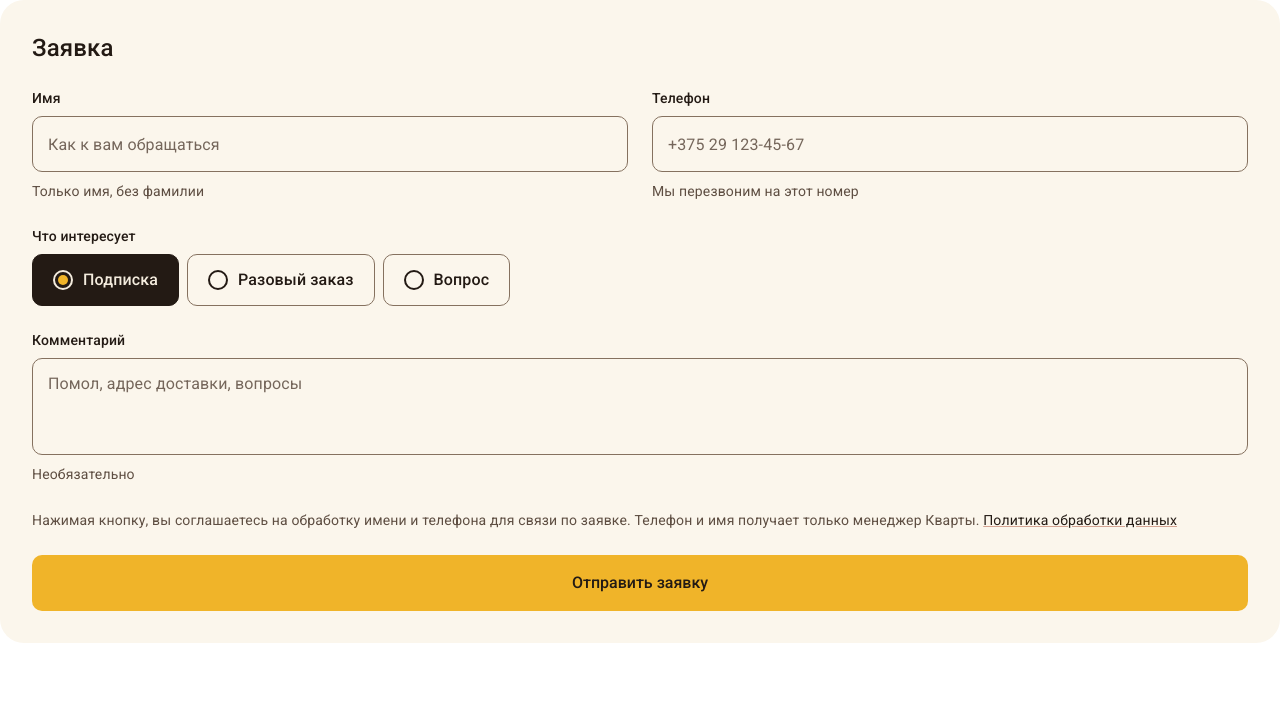
LeadForm sending › offers no Telegram write-us link in the failure view (a channel cannot receive messages)
Step 1. Type "Анна" into the field labelled "Имя" → (330, 144), box [32,116,628,172]
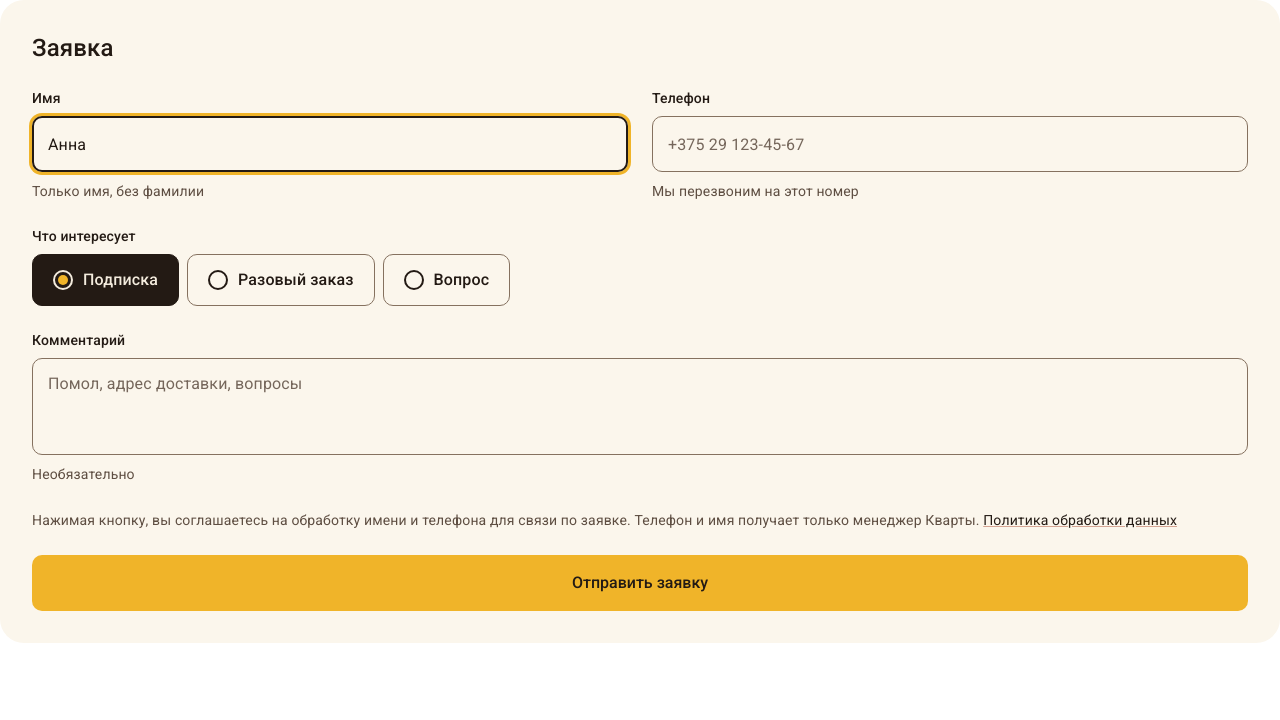
Step 2. Type "80291234567" into the field labelled "Телефон" → (950, 144), box [652,116,1248,172]
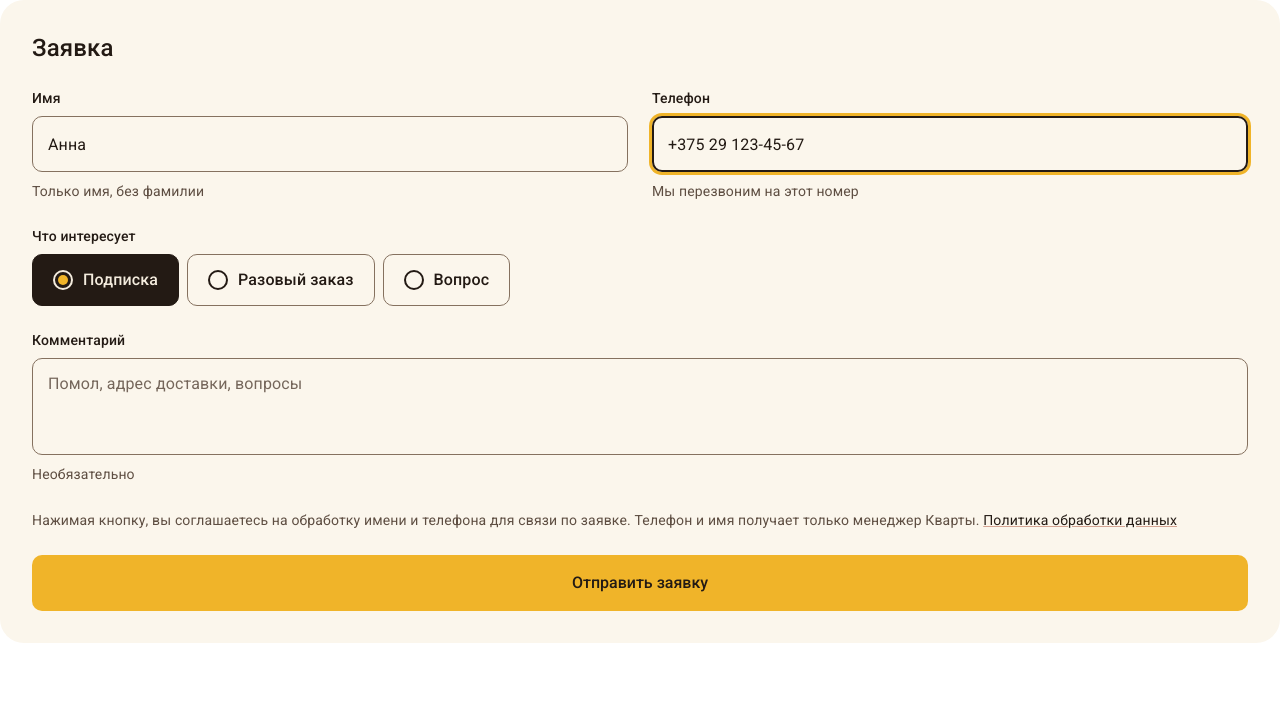
Step 3. Click the button "Отправить заявку" → (640, 583), box [32,555,1248,611]
(page scrolled)
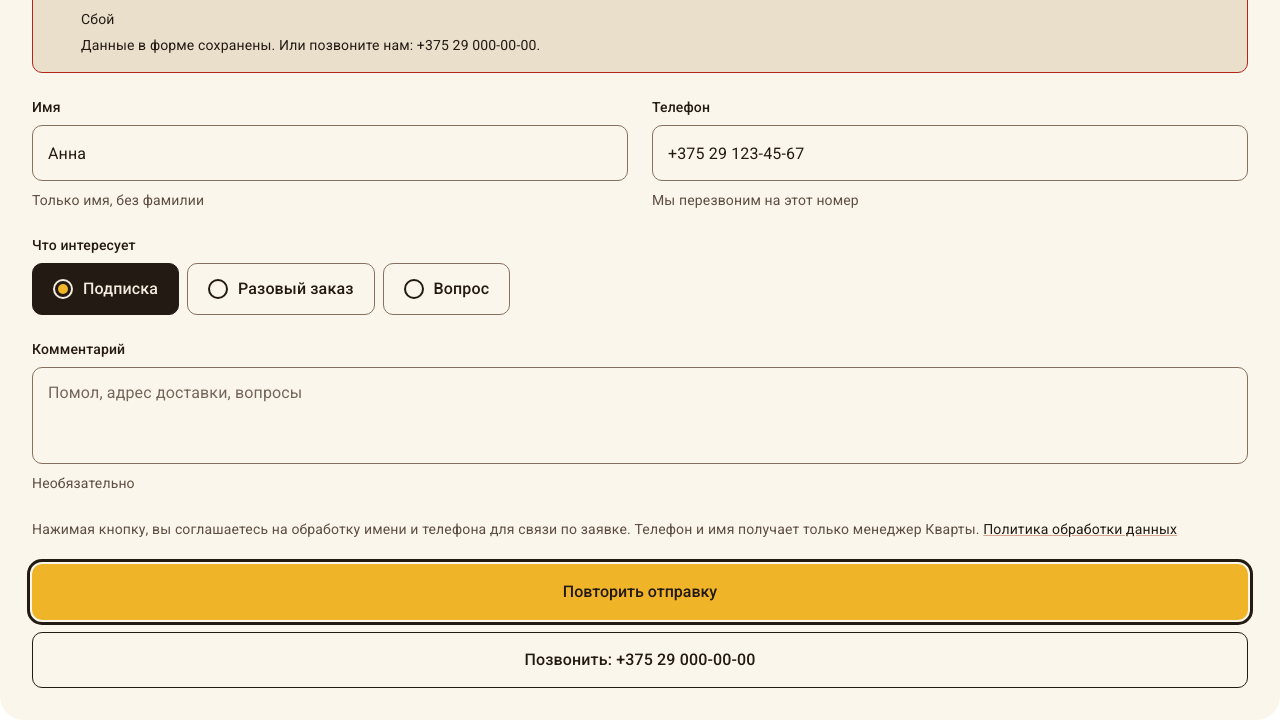
Result: the button "Повторить отправку" is shown at [32,564,1248,620]
Result: the link "Позвонить: +375 29 000-00-00" is shown at [32,632,1248,688]
